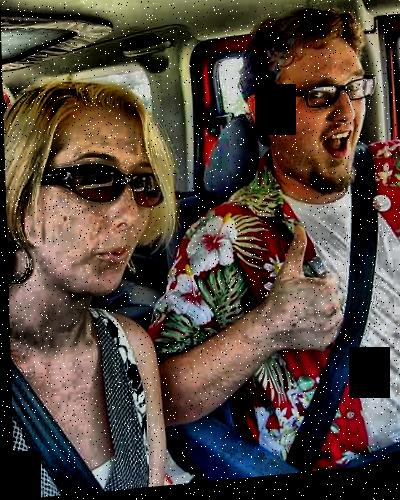seatbelt: (297, 133, 400, 435), (10, 359, 97, 472)
